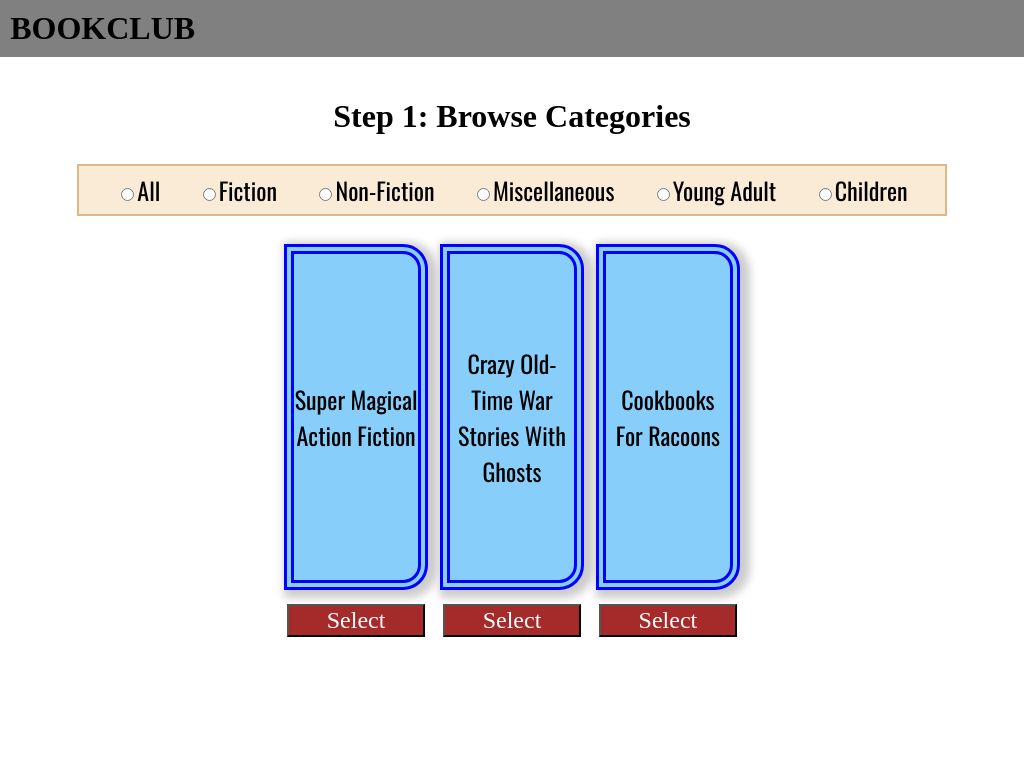
Test: Network Requests and Error Handling › Should show a preview list when selecting a category
Step 1. Click the link "Cookbooks For Racoons" → x=669, y=417, box [596,244,741,590]
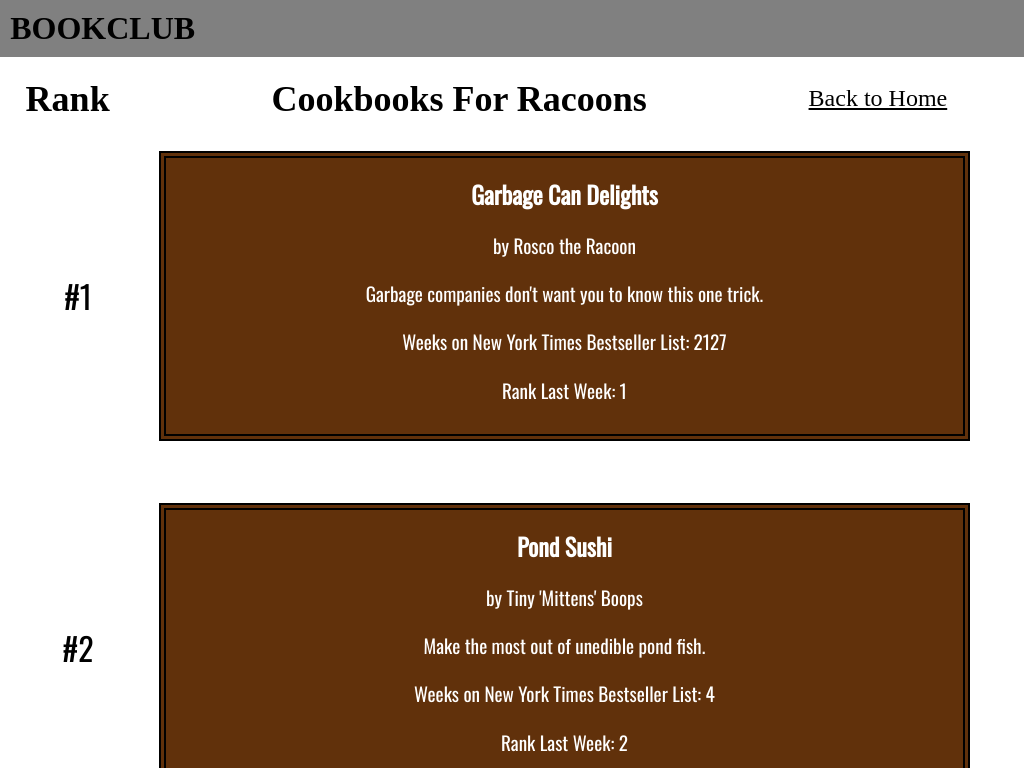
Expected: the heading "Garbage Can Delights" is shown, [471,176,658,212]
